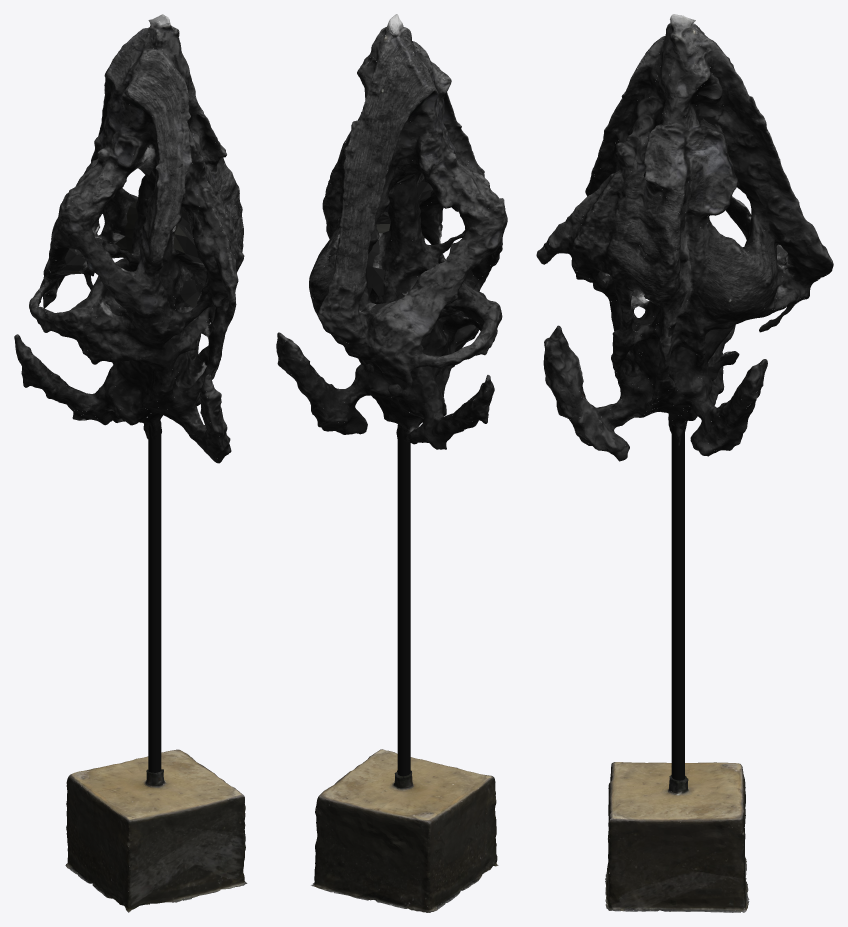
File: hahead.glb
3 views of the same model, side by side, from view 1: azimuth 30°, elevation 25°; view 2: azimuth 150°, elevation 25°; view 3: azimuth 270°, elevation 25° (orthographic).
Parts seen in each view (by area): view 1: Mesh_0_Part_0, Cylinder; view 2: Mesh_0_Part_0, Cylinder; view 3: Mesh_0_Part_0, Cylinder.
Boxes of the visible parts, box(x1,y1,x2,y2) form: Mesh_0_Part_0: box(14, 14, 247, 912); Cylinder: box(148, 424, 161, 772); Mesh_0_Part_0: box(276, 14, 507, 912); Cylinder: box(397, 425, 410, 776); Mesh_0_Part_0: box(536, 14, 833, 912); Cylinder: box(671, 423, 684, 780).
Bounding box in the file's own units: 3.94 × 15.86 × 4.89.
Materials: 2 (1 with a texture image).
